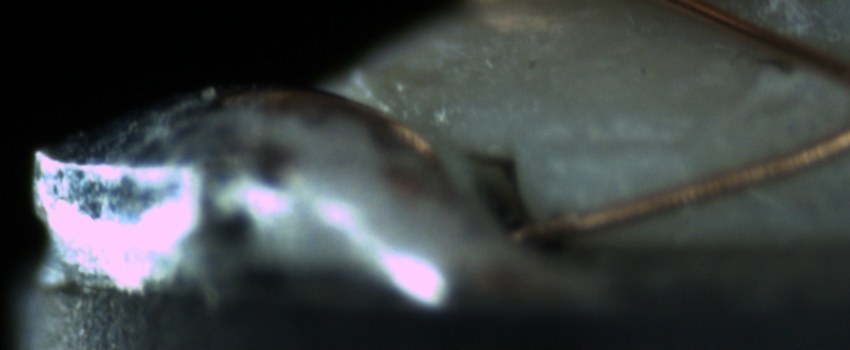DL: (549, 109, 701, 178)
